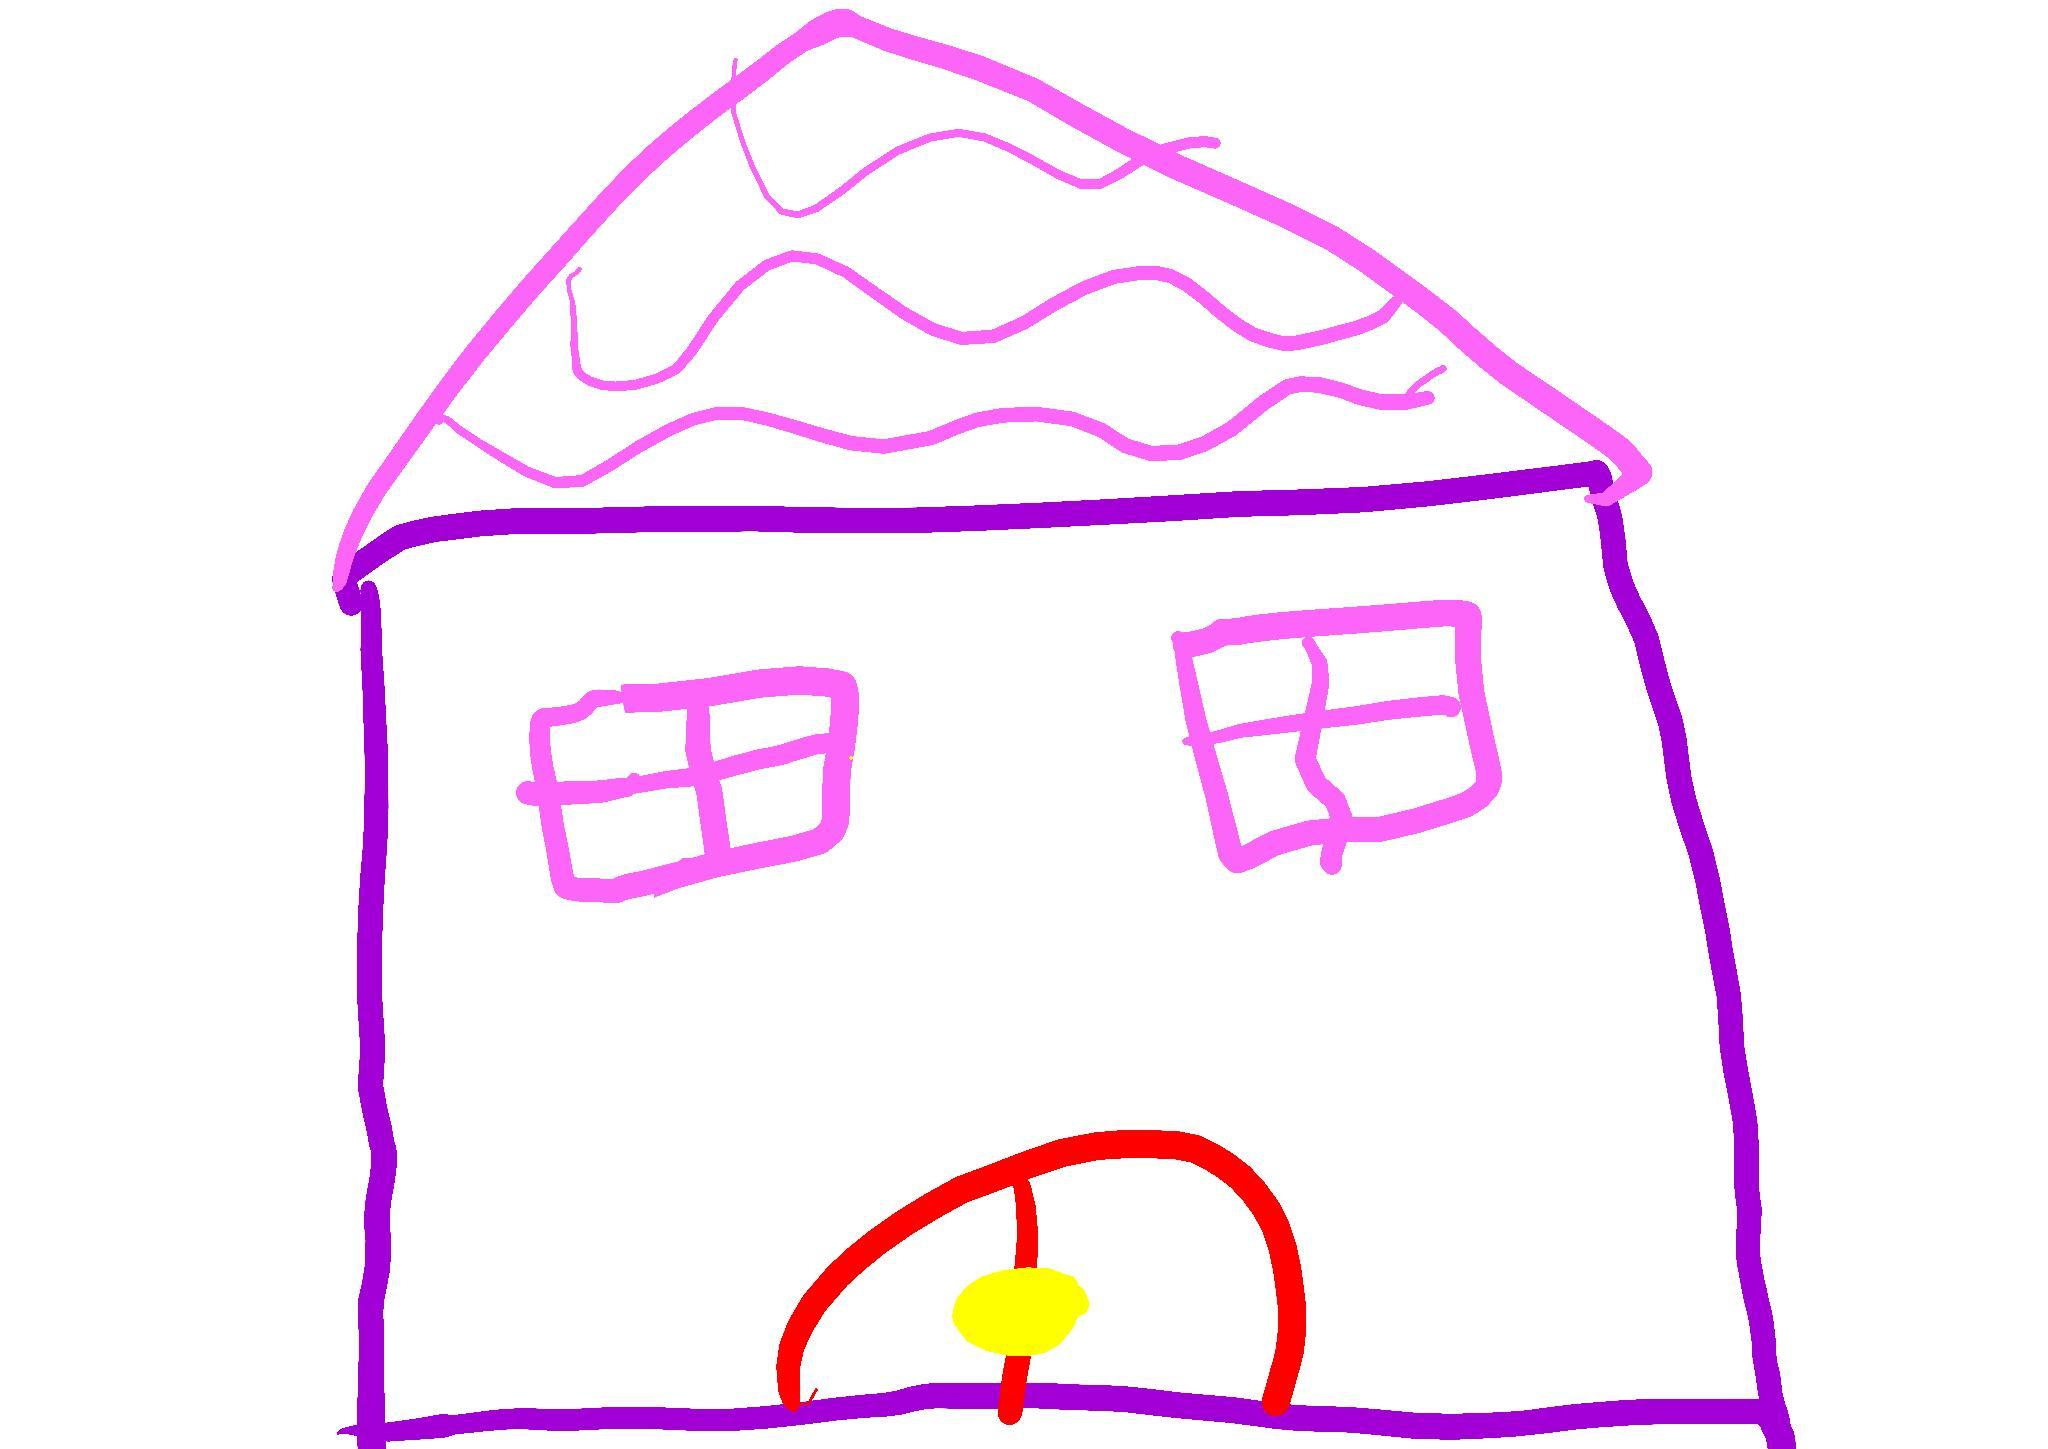door: (776, 1131, 1308, 1427)
house: (332, 11, 1794, 1447)
roof: (332, 9, 1647, 586)
wall: (362, 489, 1770, 1433)
window: (1175, 599, 1504, 873), (516, 666, 858, 902)
